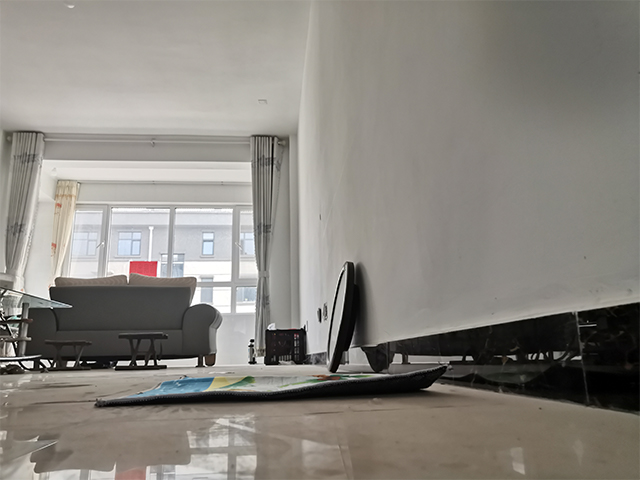carpet: (93, 362, 452, 410)
curtain: (249, 134, 281, 357), (4, 130, 47, 287), (49, 178, 79, 275)
sofa: (24, 272, 223, 369)
stool: (112, 330, 172, 372), (41, 339, 98, 372)
table: (1, 286, 74, 372)
